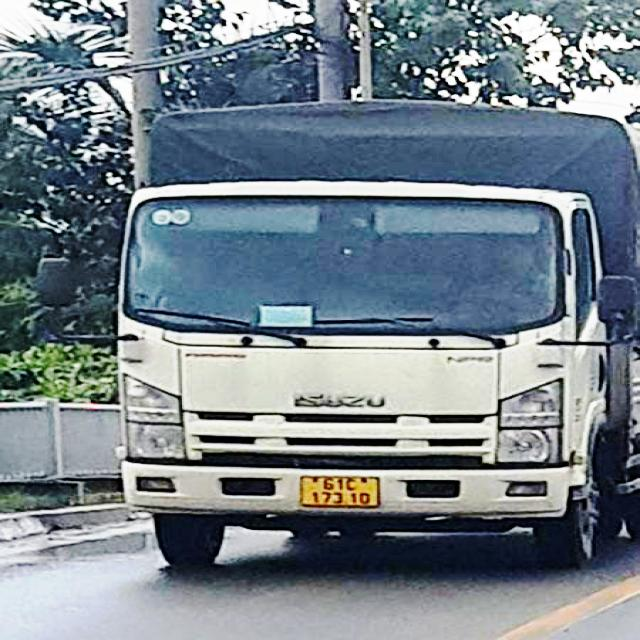license_plate: (298, 476, 384, 509)
